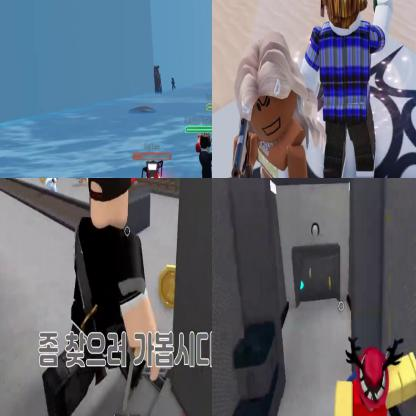Roblox-Avatar: (43, 179, 162, 416), (302, 1, 395, 178), (233, 32, 328, 178), (334, 336, 416, 416), (140, 160, 173, 178), (200, 134, 212, 178), (44, 179, 59, 194), (79, 179, 91, 189)
